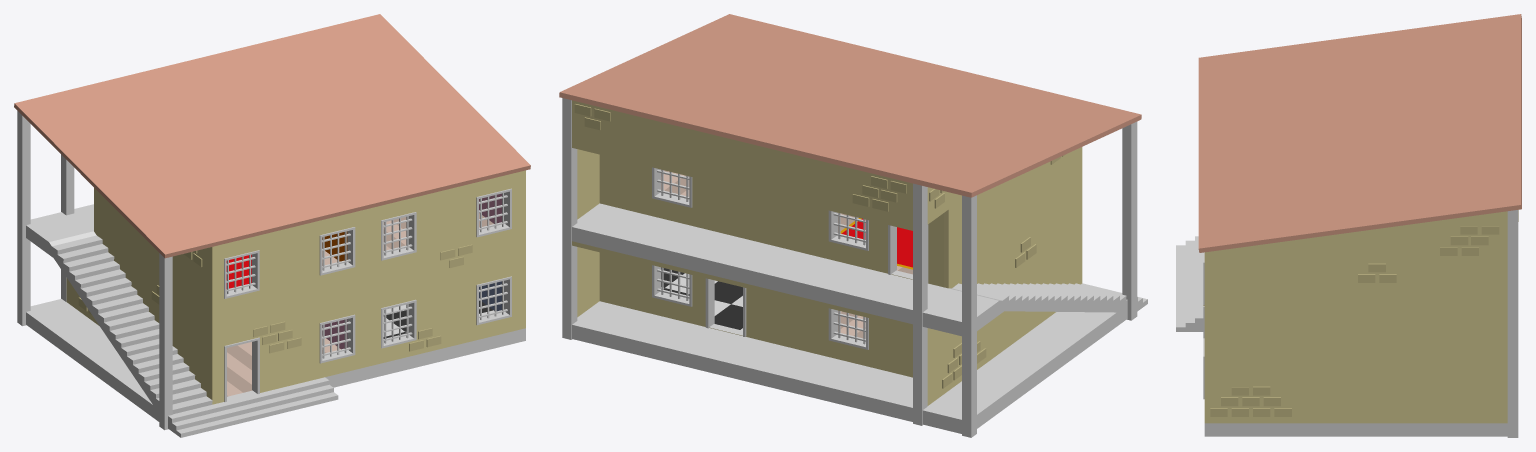
File: Mansion2.fbx
The picture shows the model from 3 angles, left to right: view 1: azimuth 30°, elevation 25°; view 2: azimuth 150°, elevation 25°; view 3: azimuth 270°, elevation 25°; orthographic projection. The views are drawn at different scales.
Parts seen in each view (by area): view 1: Mansion2, Mansion2.001, Mansion2Window5, Mansion2Window6, Mansion2Window9, Mansion2Window10, Mansion2Window11, Mansion2Window7, Mansion2Window8; view 2: Mansion2, Mansion2.001; view 3: Mansion2.
Boxes of the visible parts, x1=… form: Mansion2: x1=14, y1=14, x2=530, y2=437; Mansion2.001: x1=94, y1=188, x2=212, y2=399; Mansion2Window5: x1=383, y1=216, x2=412, y2=255; Mansion2Window6: x1=383, y1=304, x2=412, y2=343; Mansion2Window9: x1=322, y1=231, x2=350, y2=270; Mansion2Window10: x1=322, y1=319, x2=350, y2=358; Mansion2Window11: x1=226, y1=255, x2=255, y2=293; Mansion2Window7: x1=479, y1=193, x2=507, y2=232; Mansion2Window8: x1=479, y1=281, x2=507, y2=319; Mansion2: x1=559, y1=14, x2=1147, y2=437; Mansion2.001: x1=927, y1=147, x2=1082, y2=288; Mansion2: x1=1176, y1=14, x2=1521, y2=437.
Bounding box in the file's own units: 15.31 × 11.72 × 8.75.
